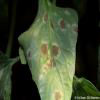Tomato mold leaf: (19, 3, 79, 99)
